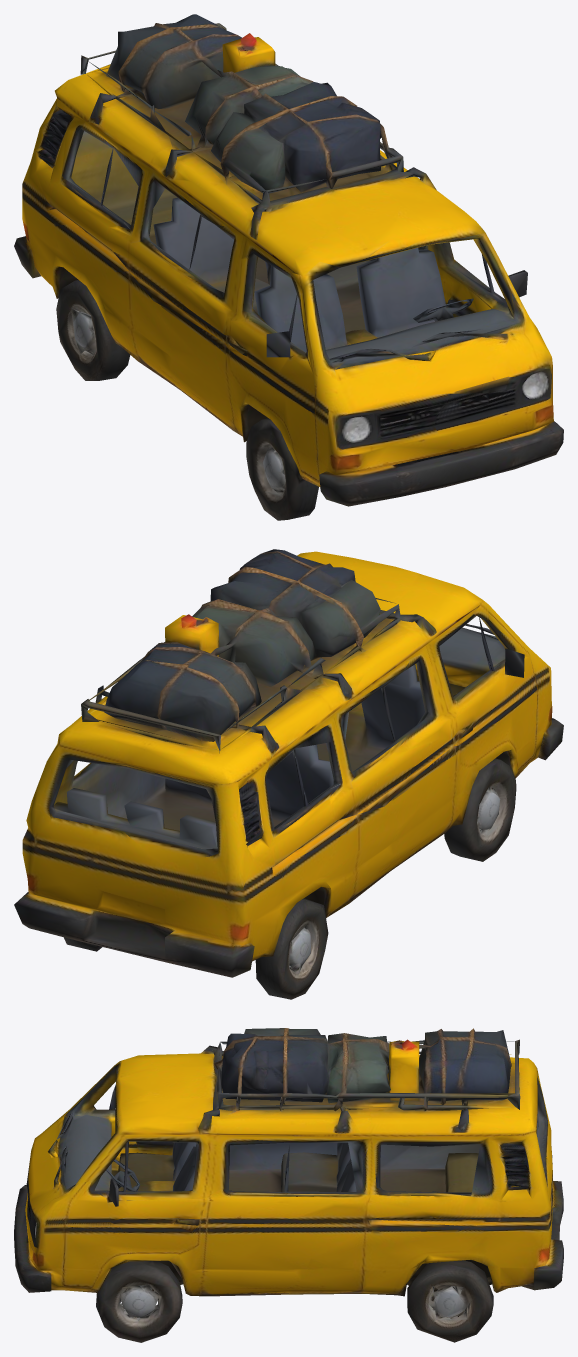
Rendered from danfo.glb.
The picture shows the model from 3 angles, top to bottom: view 1: azimuth 30°, elevation 25°; view 2: azimuth 150°, elevation 25°; view 3: azimuth 270°, elevation 25°; orthographic projection. The views are drawn at different scales.
Parts seen in each view (by area): view 1: tripo_node_87ee9f7e-aeac-4244-9aac-5ab9be66e185; view 2: tripo_node_87ee9f7e-aeac-4244-9aac-5ab9be66e185; view 3: tripo_node_87ee9f7e-aeac-4244-9aac-5ab9be66e185.
Part boxes in pixels (x1,y1,x2,y2): tripo_node_87ee9f7e-aeac-4244-9aac-5ab9be66e185: (14, 14, 563, 520); tripo_node_87ee9f7e-aeac-4244-9aac-5ab9be66e185: (14, 549, 563, 999); tripo_node_87ee9f7e-aeac-4244-9aac-5ab9be66e185: (14, 1028, 563, 1342).
Bounding box in the file's own units: 0.4472 × 0.5393 × 1.
1 material, 1 textured.
